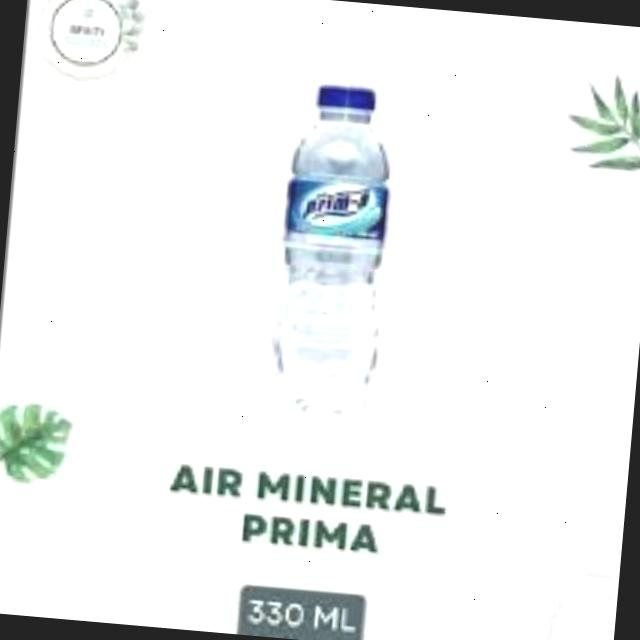trash: (252, 70, 426, 419)
